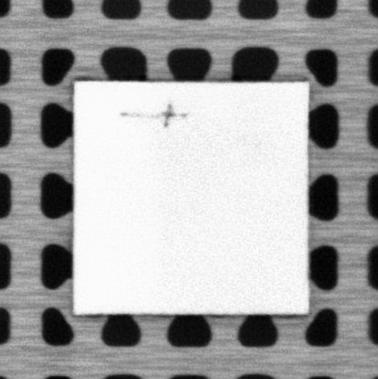DIE_INK: (118, 102, 189, 128)
